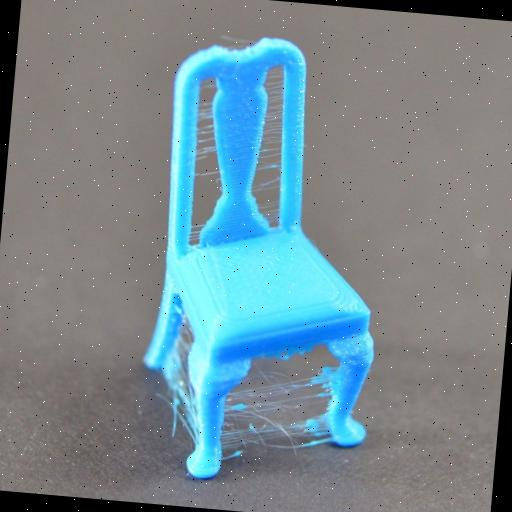stringing: (216, 368, 340, 478), (248, 74, 296, 206), (186, 84, 227, 212)
